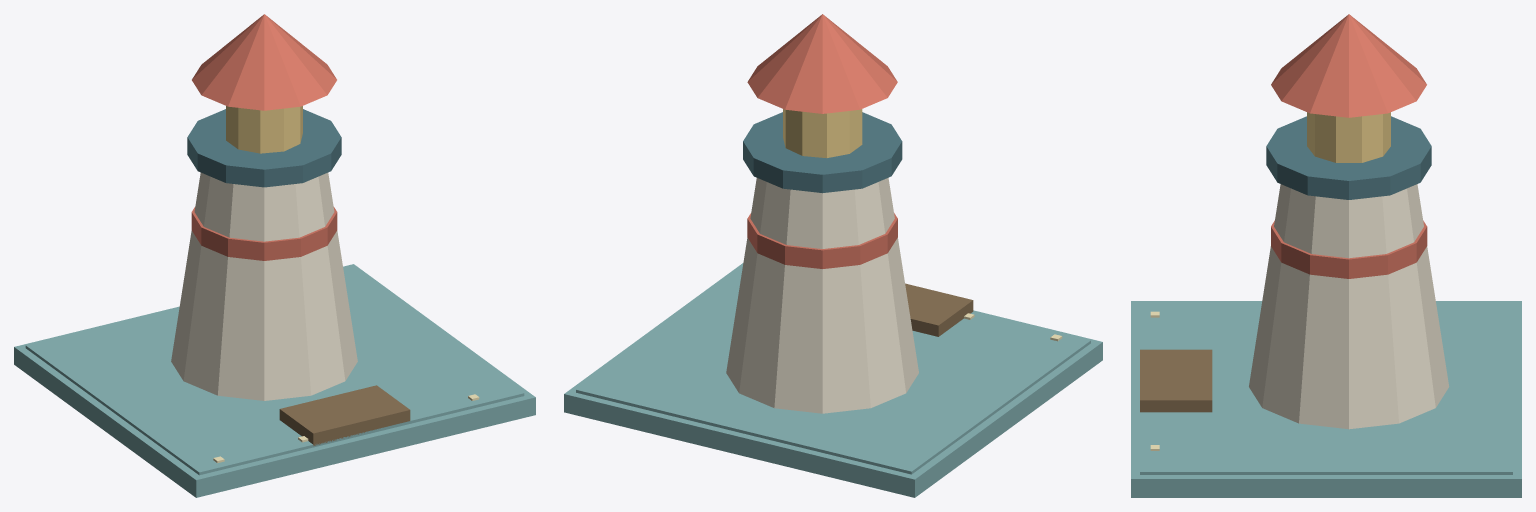
The model's file is tower-lv1.obj.
The picture shows the model from 3 angles, left to right: view 1: azimuth 30°, elevation 25°; view 2: azimuth 150°, elevation 25°; view 3: azimuth 270°, elevation 25°; orthographic projection. The views are drawn at different scales.
Parts seen in each view (by area): view 1: tower_0, tower_2, tower_3, tower_4, tower_6, tower_5; view 2: tower_0, tower_2, tower_3, tower_4, tower_5, tower_6; view 3: tower_0, tower_2, tower_3, tower_4, tower_6, tower_5.
Boxes of the visible parts, x1,y1,x2,y2 form: tower_0: [14, 264, 535, 497]; tower_2: [171, 172, 357, 400]; tower_3: [191, 14, 337, 260]; tower_4: [187, 109, 341, 187]; tower_6: [279, 385, 410, 445]; tower_5: [226, 106, 302, 153]; tower_0: [564, 263, 1102, 497]; tower_2: [726, 177, 918, 413]; tower_3: [747, 14, 897, 268]; tower_4: [743, 112, 902, 193]; tower_5: [783, 109, 862, 158]; tower_6: [905, 283, 973, 336]; tower_0: [1131, 301, 1521, 497]; tower_2: [1249, 184, 1449, 429]; tower_3: [1271, 14, 1427, 278]; tower_4: [1266, 116, 1431, 199]; tower_6: [1140, 349, 1212, 412]; tower_5: [1307, 112, 1390, 162].
Size of the model in its own units: 2.8 by 2.9 by 2.6.
